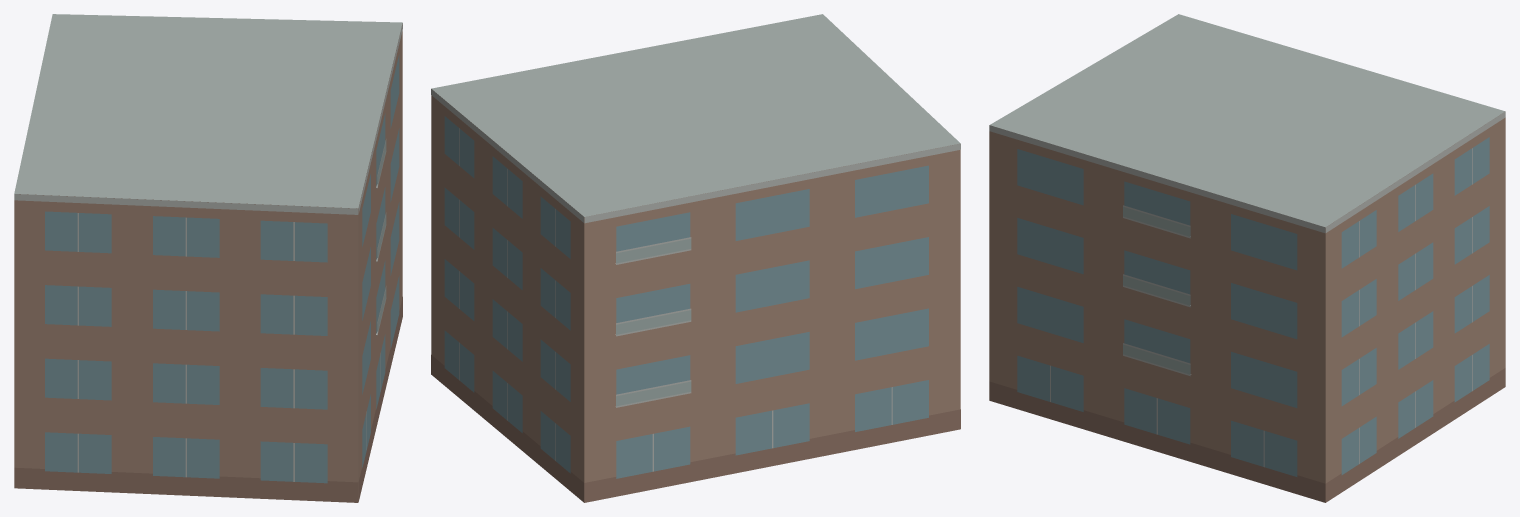
The model's file is survey-upis-32860688.glb.
3 views of the same model, side by side, from view 1: azimuth 30°, elevation 25°; view 2: azimuth 150°, elevation 25°; view 3: azimuth 270°, elevation 25° (orthographic). The views are drawn at different scales.
Parts seen in each view (by area): view 1: survey-upis-32860688.tmp; view 2: survey-upis-32860688.tmp; view 3: survey-upis-32860688.tmp.
Boxes of the visible parts, x1,y1,x2,y2 form: survey-upis-32860688.tmp: (14,14,402,502); survey-upis-32860688.tmp: (431,14,960,502); survey-upis-32860688.tmp: (989,14,1505,502).
Bounding box in the file's own units: 18.37 × 11.06 × 18.78.
